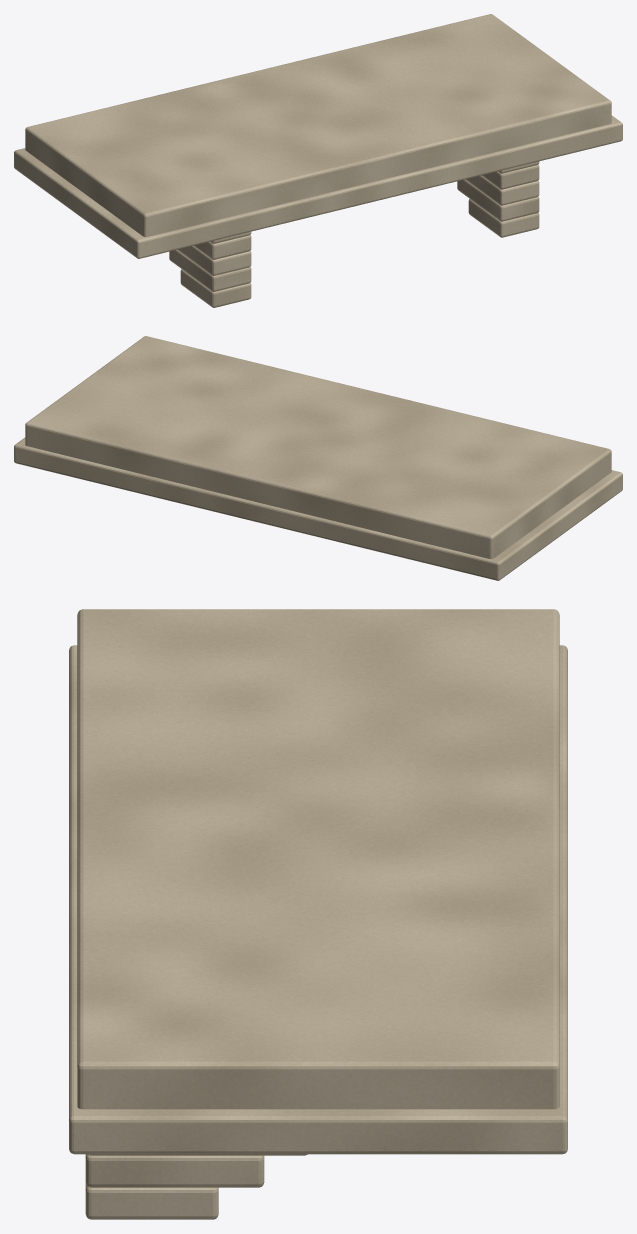
File: balcony-slab.glb
The picture shows the model from 3 angles, top to bottom: view 1: azimuth 30°, elevation 25°; view 2: azimuth 150°, elevation 25°; view 3: azimuth 270°, elevation 25°; orthographic projection. The views are drawn at different scales.
Parts seen in each view (by area): view 1: balcony-slab; view 2: balcony-slab; view 3: balcony-slab.
Boxes of the visible parts, x1,y1,x2,y2 form: balcony-slab: (14,14,622,307); balcony-slab: (14,336,622,580); balcony-slab: (69,609,567,1219).
Bounding box in the file's own units: 2.7 × 0.6 × 1.2.
1 material, 1 textured.
